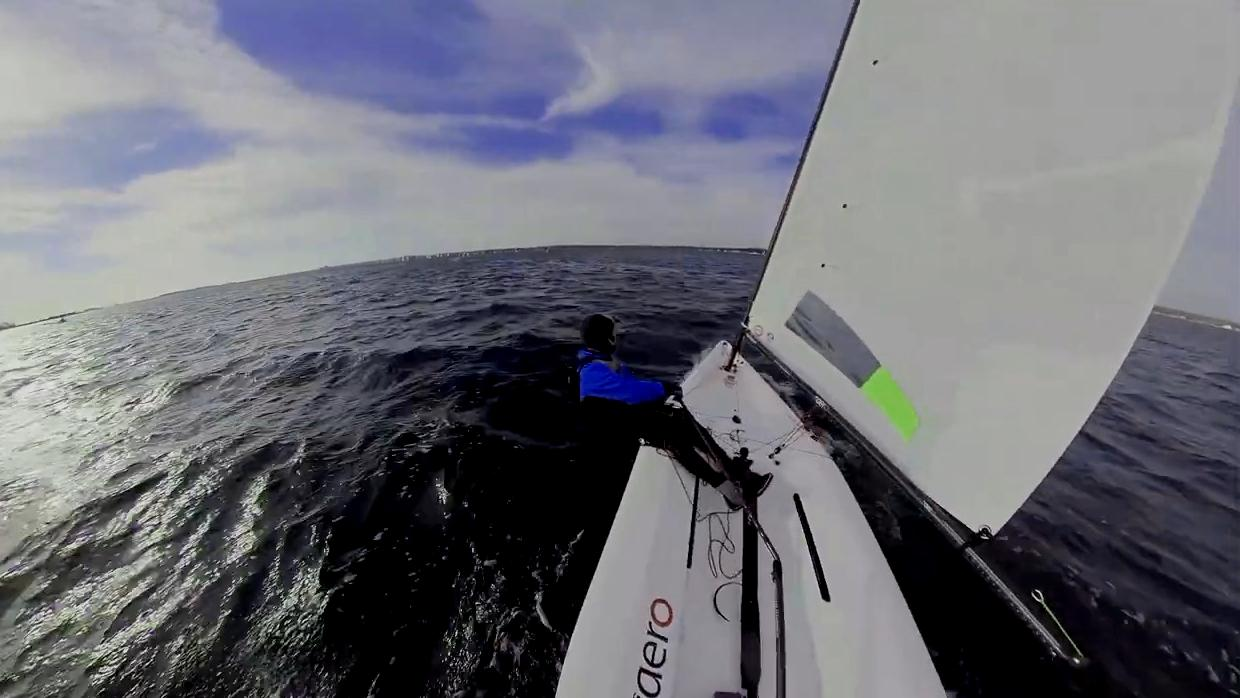boat: (742, 0, 1240, 667), (554, 340, 949, 698)
person: (581, 314, 772, 517)
sea: (0, 246, 766, 698), (748, 308, 1240, 698)
sky: (0, 0, 858, 324), (1157, 80, 1240, 323)
